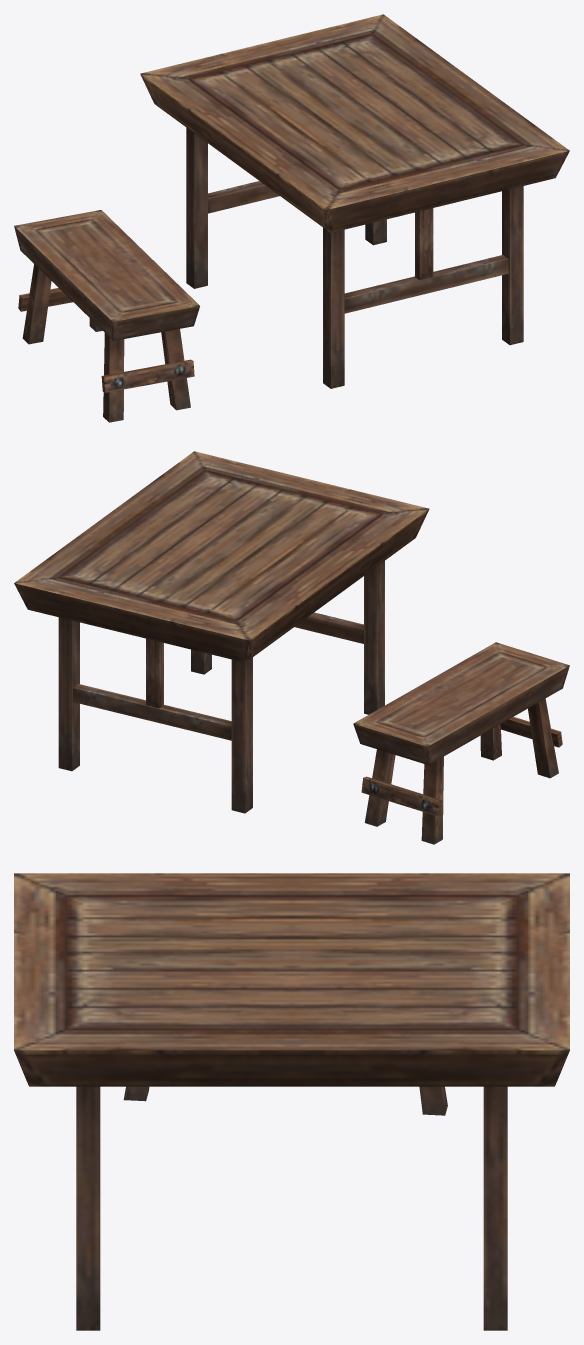
Rendered from S2_Build_DouLuo011.FBX.
3 renders of one model, top to bottom at view 1: azimuth 30°, elevation 25°; view 2: azimuth 150°, elevation 25°; view 3: azimuth 270°, elevation 25°, orthographic. The views are drawn at different scales.
Visible parts, largest first — view 1: S2_Build_DouLuo011; view 2: S2_Build_DouLuo011; view 3: S2_Build_DouLuo011.
Boxes of the visible parts, x1,y1,x2,y2 form: S2_Build_DouLuo011: (14,14,569,422); S2_Build_DouLuo011: (14,451,569,844); S2_Build_DouLuo011: (14,873,569,1330).
Size of the model in its own units: 139 by 106 by 62.97.
